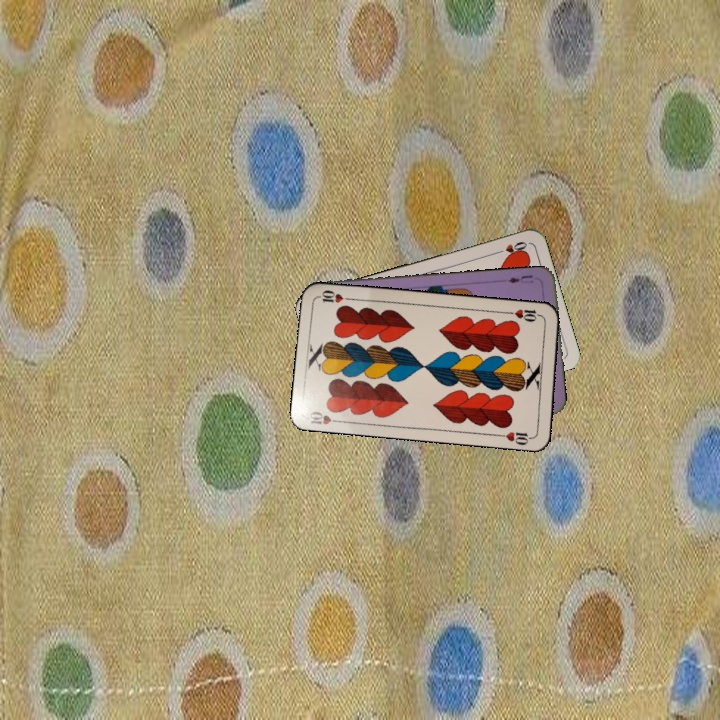EU: (504, 271, 535, 286)
H10: (305, 406, 345, 427), (504, 305, 544, 324)
HO: (490, 237, 530, 257)
